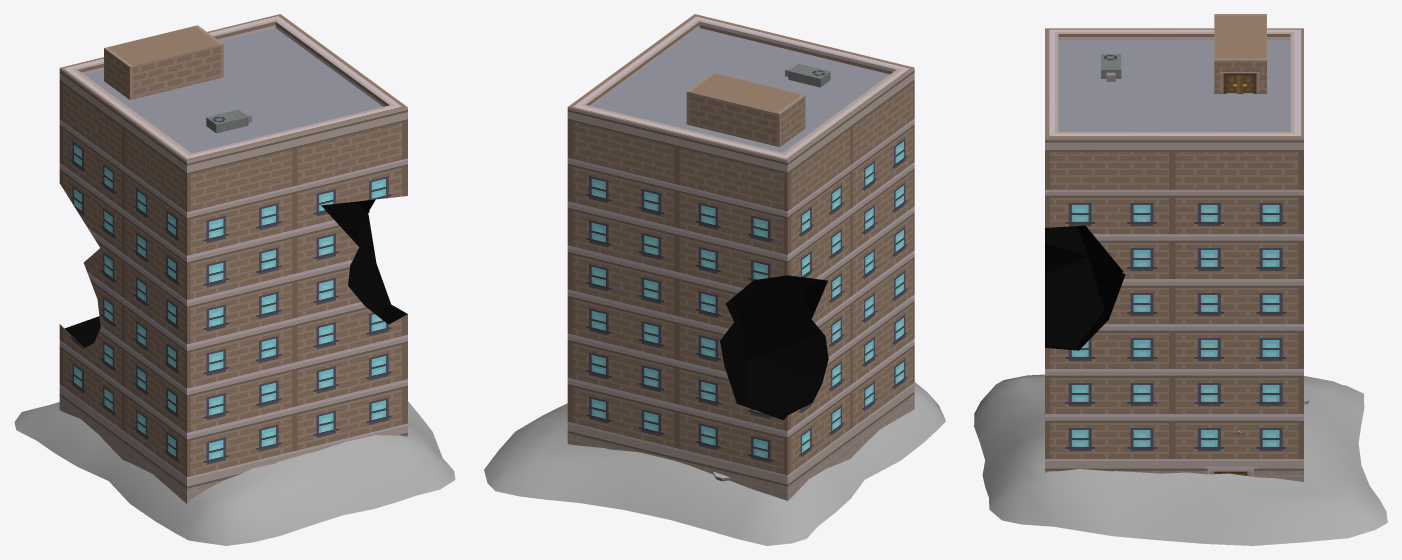
Rendered from Building2Test.fbx.
The picture shows the model from 3 angles, left to right: view 1: azimuth 30°, elevation 25°; view 2: azimuth 150°, elevation 25°; view 3: azimuth 270°, elevation 25°; orthographic projection. The views are drawn at different scales.
Parts seen in each view (by area): view 1: polySurface9, polySurface4, polySurface6; view 2: polySurface9, polySurface4, polySurface6; view 3: polySurface9, polySurface4, polySurface6.
Part boxes in pixels (x1,y1,x2,y2): polySurface9: (59, 14, 407, 503); polySurface4: (14, 401, 455, 545); polySurface6: (104, 25, 251, 133); polySurface9: (567, 14, 914, 500); polySurface4: (484, 382, 945, 545); polySurface6: (686, 63, 830, 146); polySurface9: (1045, 28, 1303, 481); polySurface4: (974, 374, 1387, 545); polySurface6: (1101, 14, 1266, 93).
Bounding box in the file's own units: 2.18 × 2.47 × 2.33.
